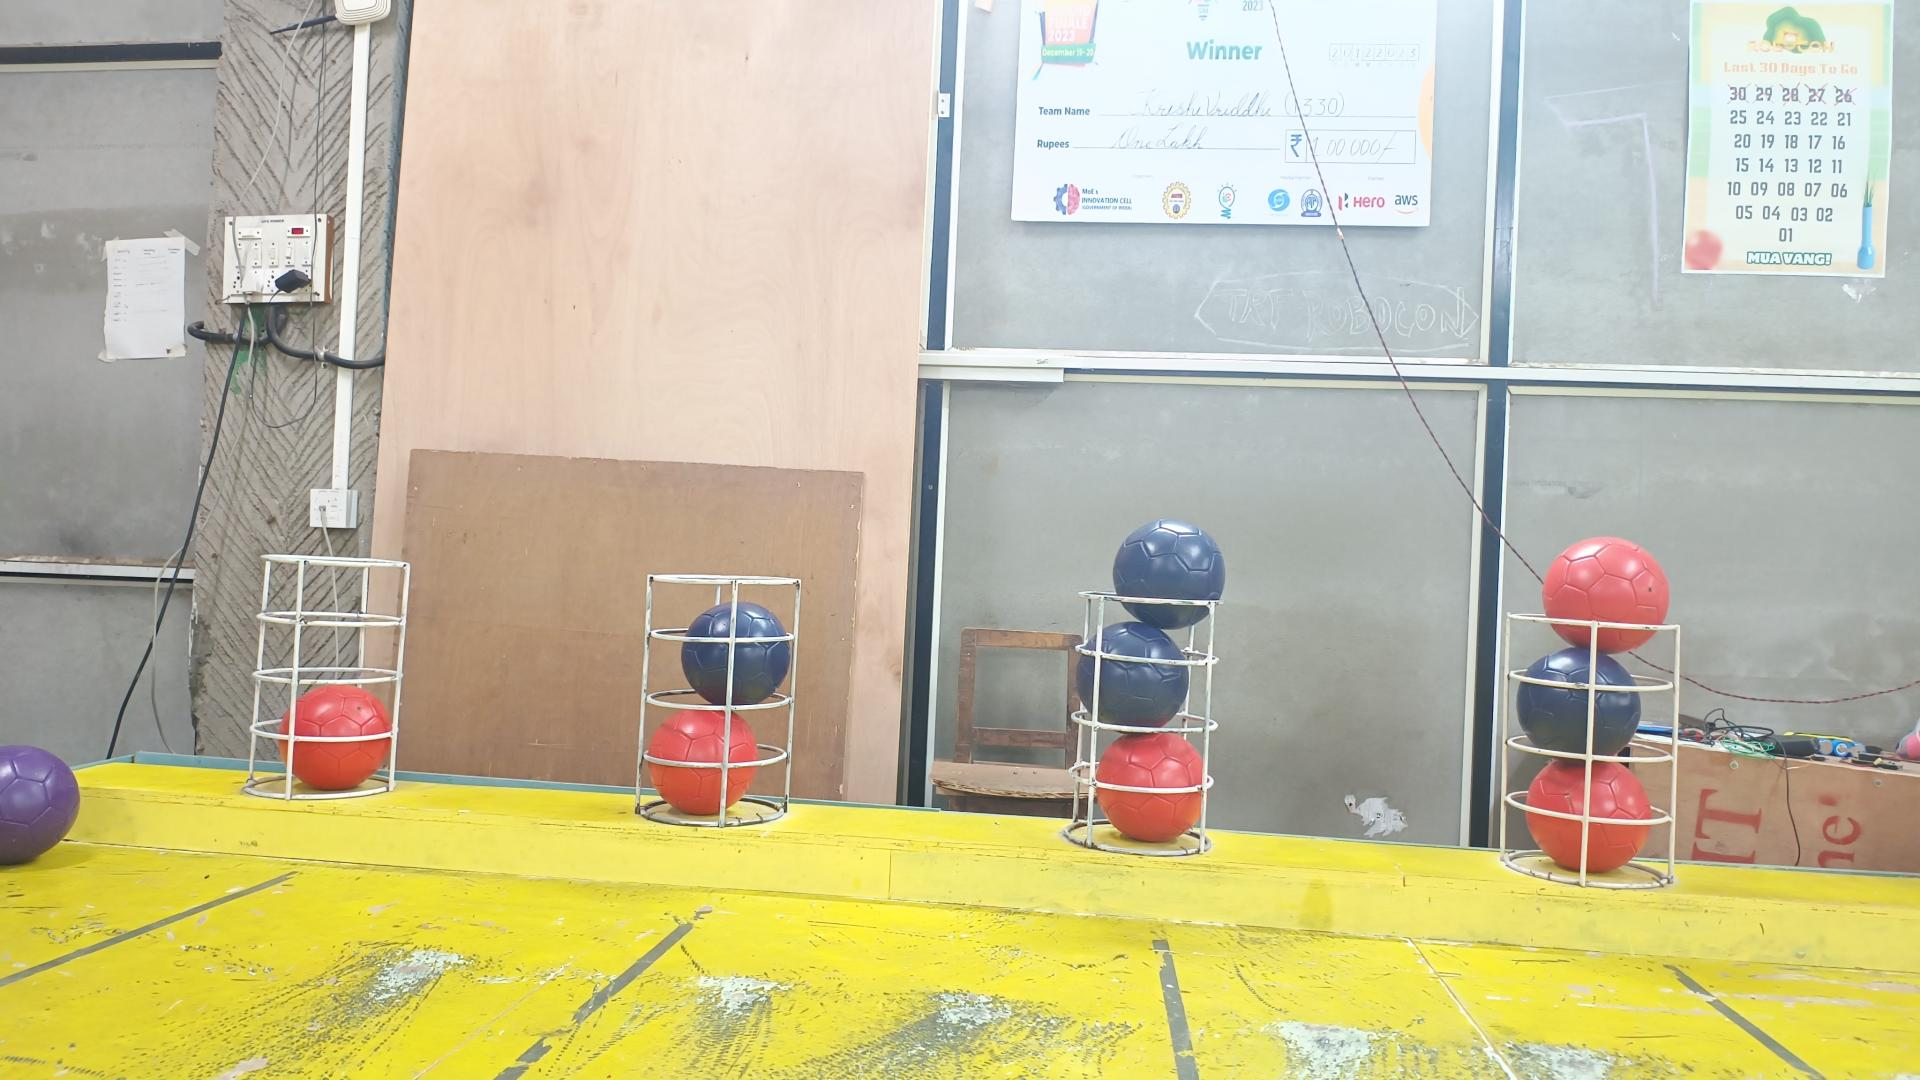dhoka: (1515, 649, 1643, 757), (1113, 520, 1226, 629), (1075, 622, 1187, 727), (683, 604, 791, 708)
laale: (1542, 534, 1668, 654), (1526, 757, 1650, 873), (1095, 731, 1208, 843), (645, 707, 757, 816), (277, 690, 390, 795)
